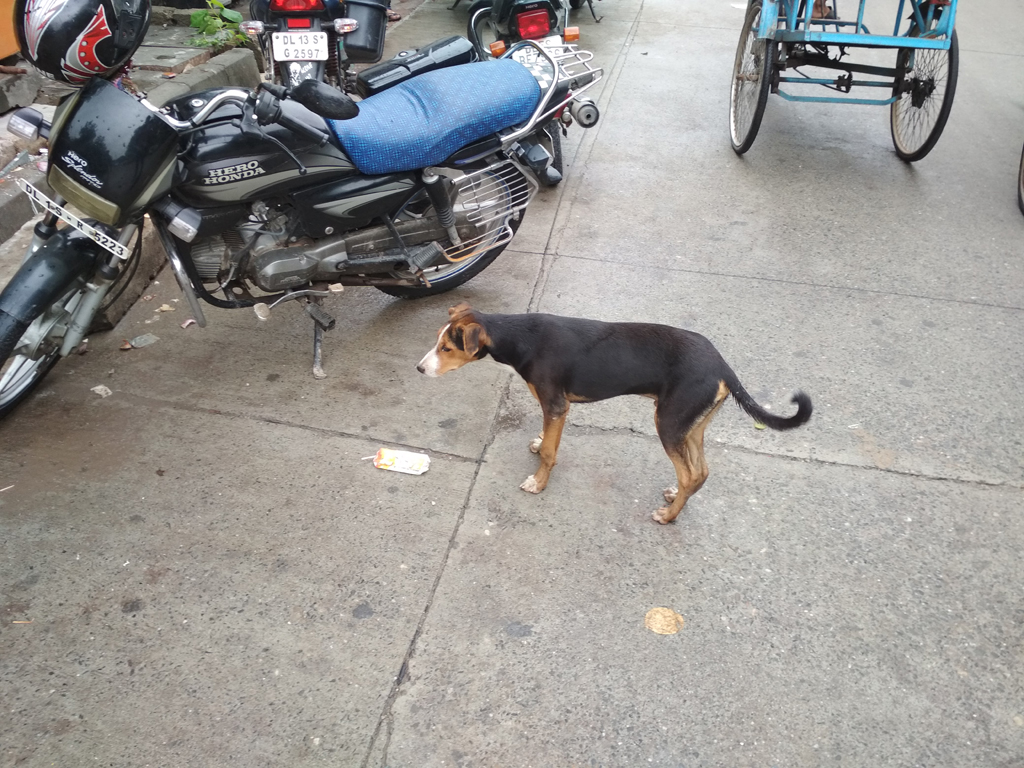dog: (418, 302, 815, 524)
